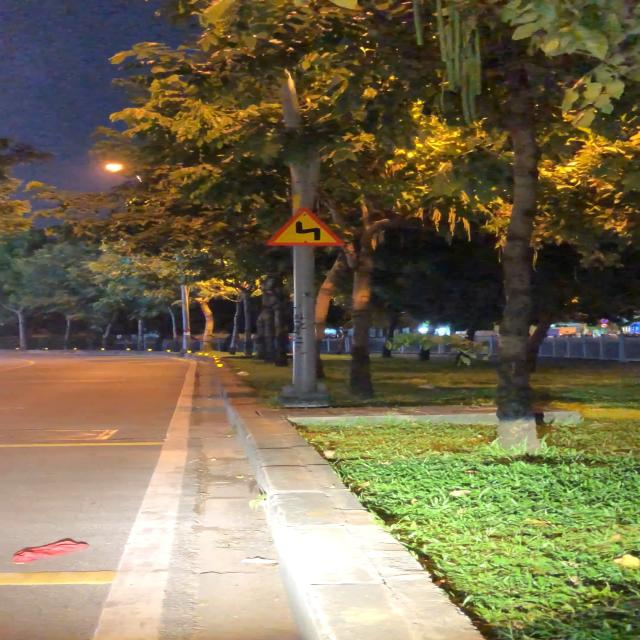Bien bao nhieu cho ngoat nguy hiem lien tiep: (265, 204, 346, 247)
